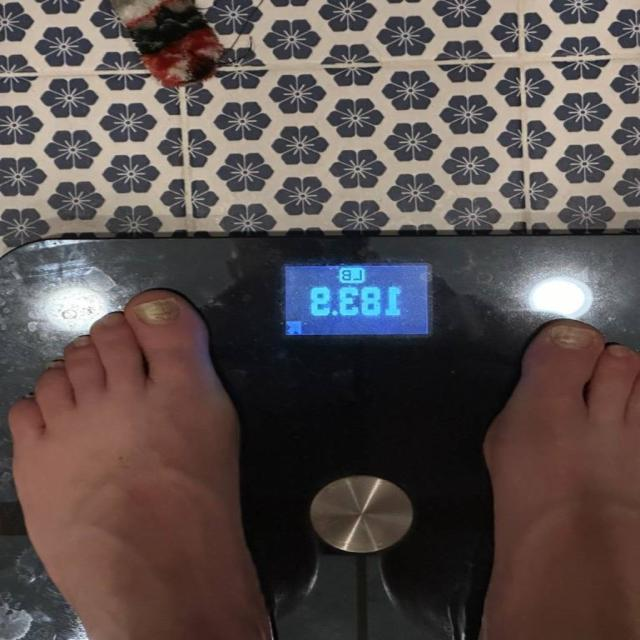ws: (1, 232, 640, 639)
